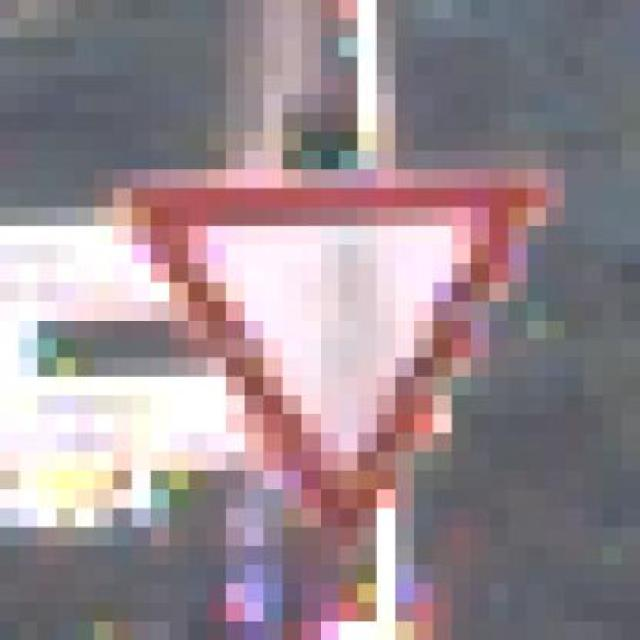Give Way: (93, 150, 564, 602)
